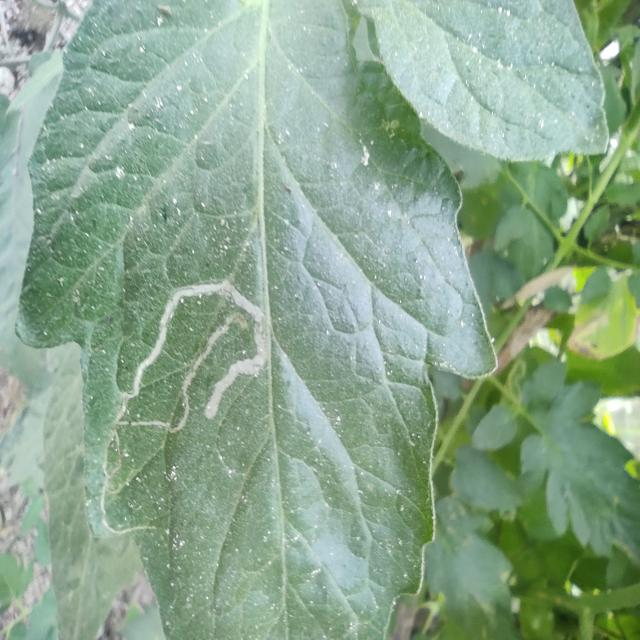Tuta absoluta: (111, 261, 289, 469), (122, 324, 253, 455)
